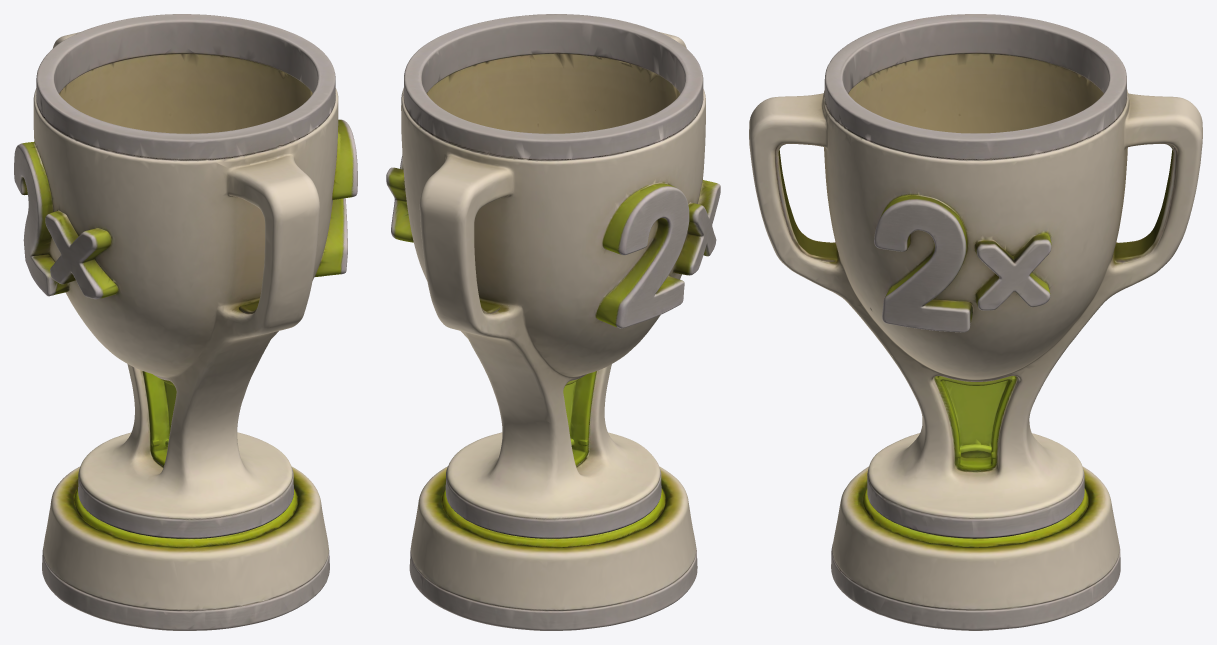
The model's file is cathacks-2x-trophy-web.glb.
3 views of the same model, side by side, from view 1: azimuth 30°, elevation 25°; view 2: azimuth 150°, elevation 25°; view 3: azimuth 270°, elevation 25° (orthographic).
Visible parts, largest first — view 1: tripo_node_cd37e7a4-cb42-4666-8f05-3db59f0c18f0; view 2: tripo_node_cd37e7a4-cb42-4666-8f05-3db59f0c18f0; view 3: tripo_node_cd37e7a4-cb42-4666-8f05-3db59f0c18f0.
Part boxes in pixels (box(x1,y1,x2,y2)): tripo_node_cd37e7a4-cb42-4666-8f05-3db59f0c18f0: box(14, 14, 357, 630); tripo_node_cd37e7a4-cb42-4666-8f05-3db59f0c18f0: box(386, 14, 720, 630); tripo_node_cd37e7a4-cb42-4666-8f05-3db59f0c18f0: box(749, 14, 1202, 630).
Size of the model in its own units: 0.6008 by 1 by 0.8274.
Materials: 1 (1 with a texture image).
